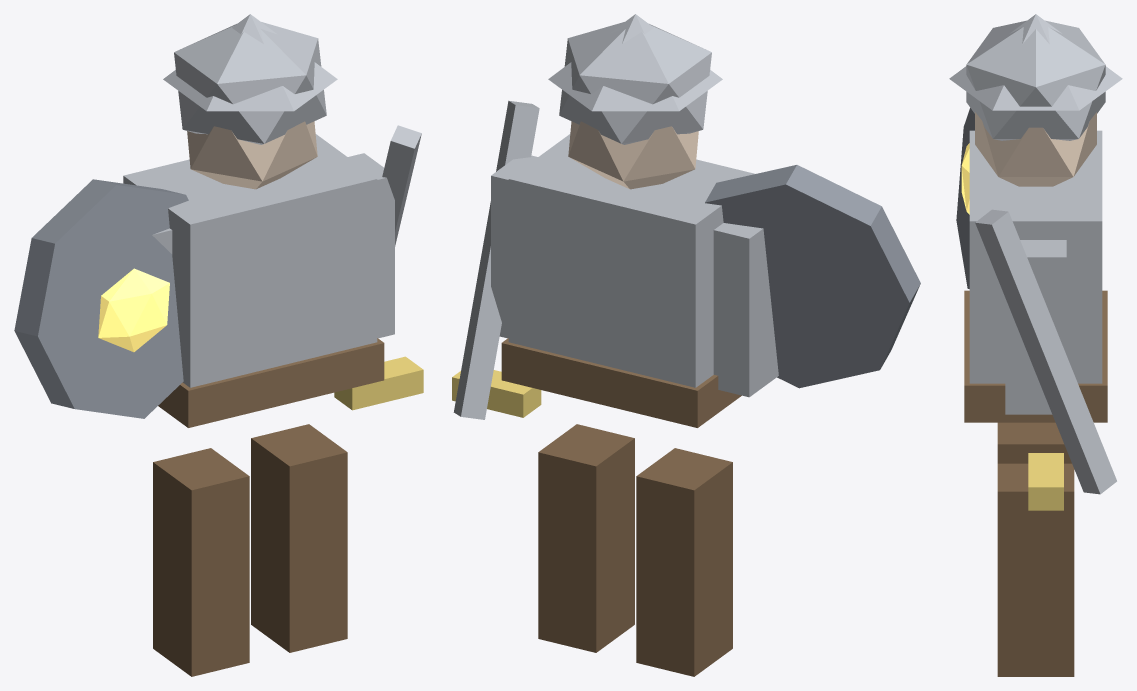
File: knight.glb
3 views of the same model, side by side, from view 1: azimuth 30°, elevation 25°; view 2: azimuth 150°, elevation 25°; view 3: azimuth 270°, elevation 25° (orthographic).
Parts seen in each view (by area): view 1: SettlerLegL; view 2: SettlerLegL; view 3: SettlerLegL.
Part boxes in pixels (box(x1,y1,x2,y2)): SettlerLegL: box(14, 14, 423, 676); SettlerLegL: box(452, 14, 920, 676); SettlerLegL: box(949, 14, 1122, 676).
Size of the model in its own units: 0.9521 by 1.35 by 0.34.
